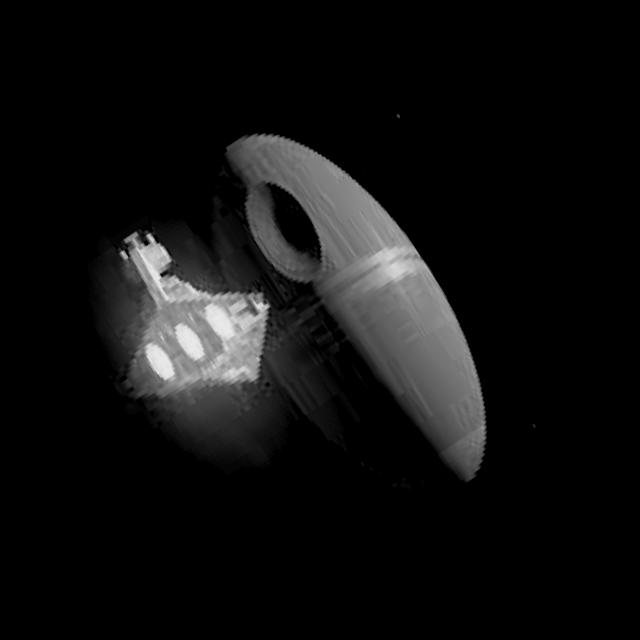death-stars: (210, 130, 495, 501)
